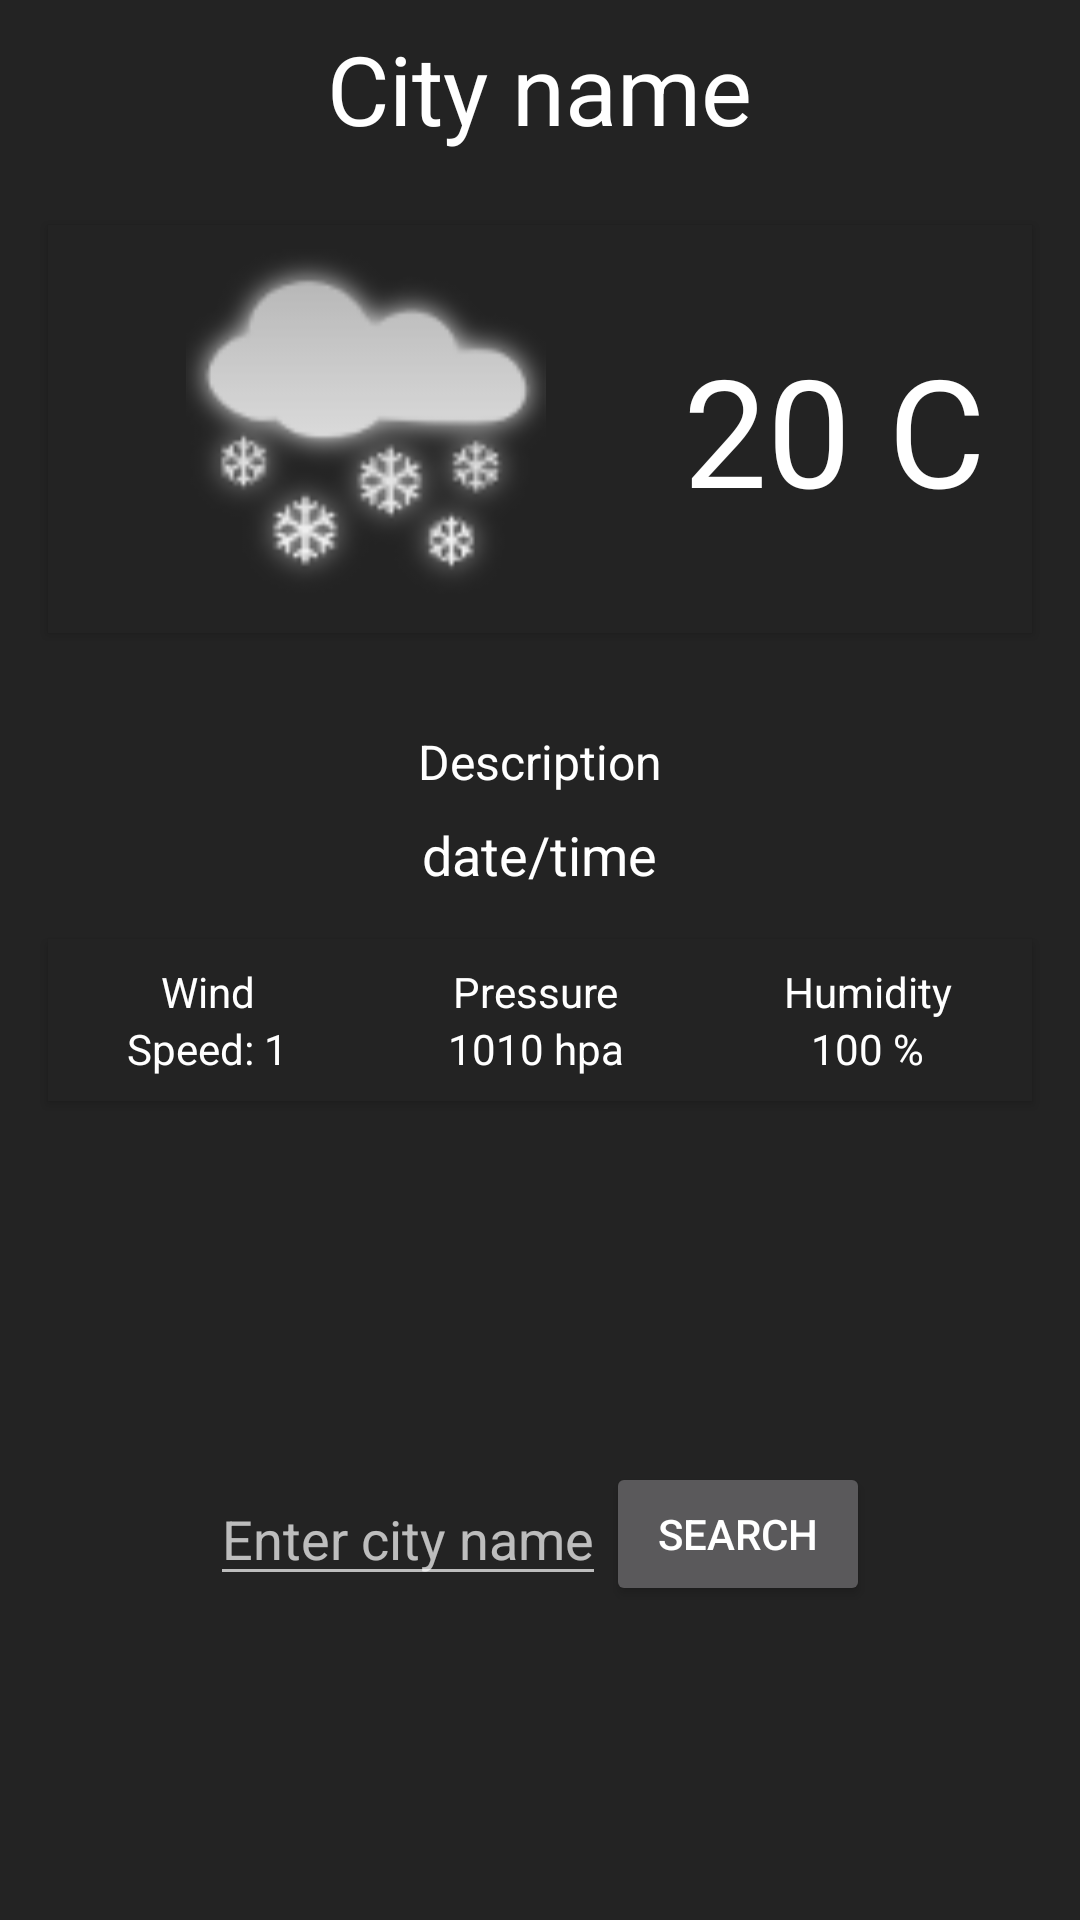

Point at icon controls on the screen. Image size 1080x1920, points as [x,y].
Weather icon: [367,419]
